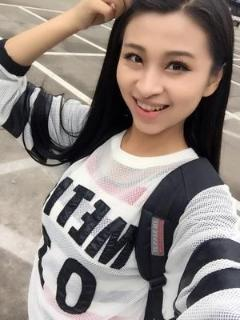long sleeve dress: (0, 39, 239, 319)
